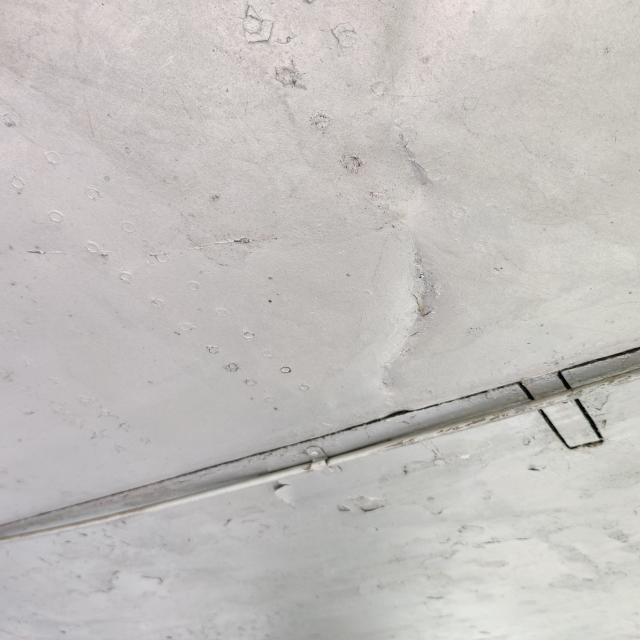dent: (340, 216, 470, 406)
